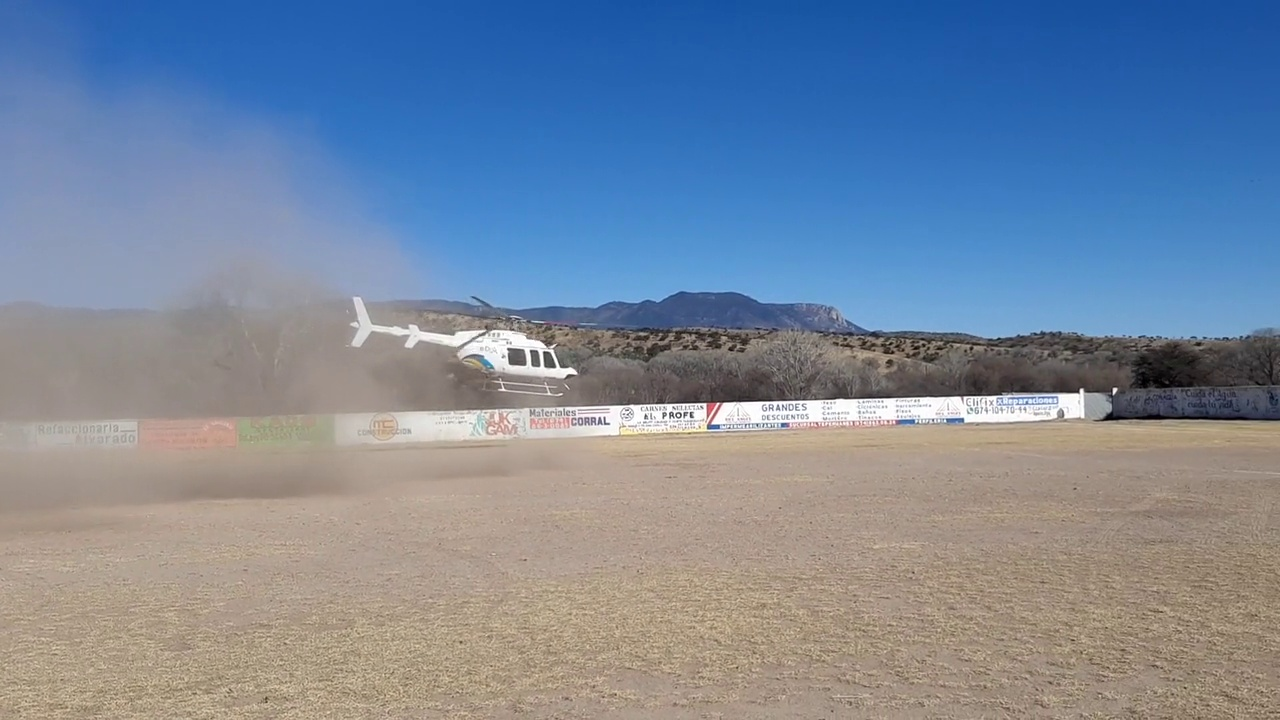heli: (344, 293, 580, 397)
